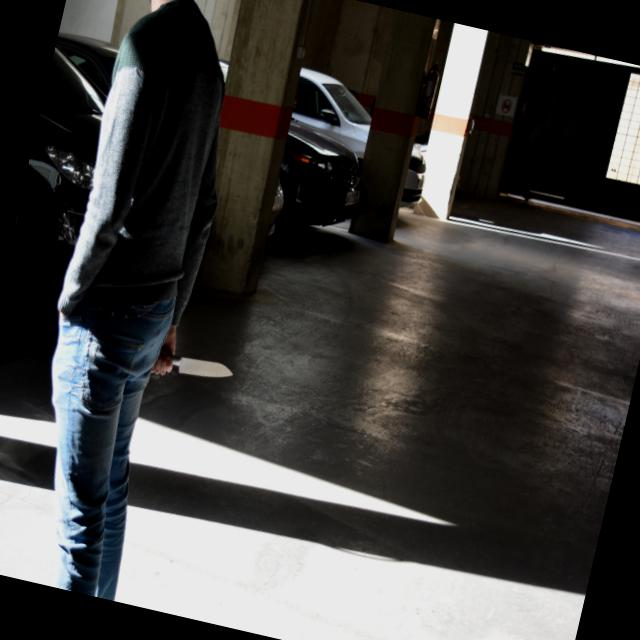knife: (160, 342, 240, 390)
